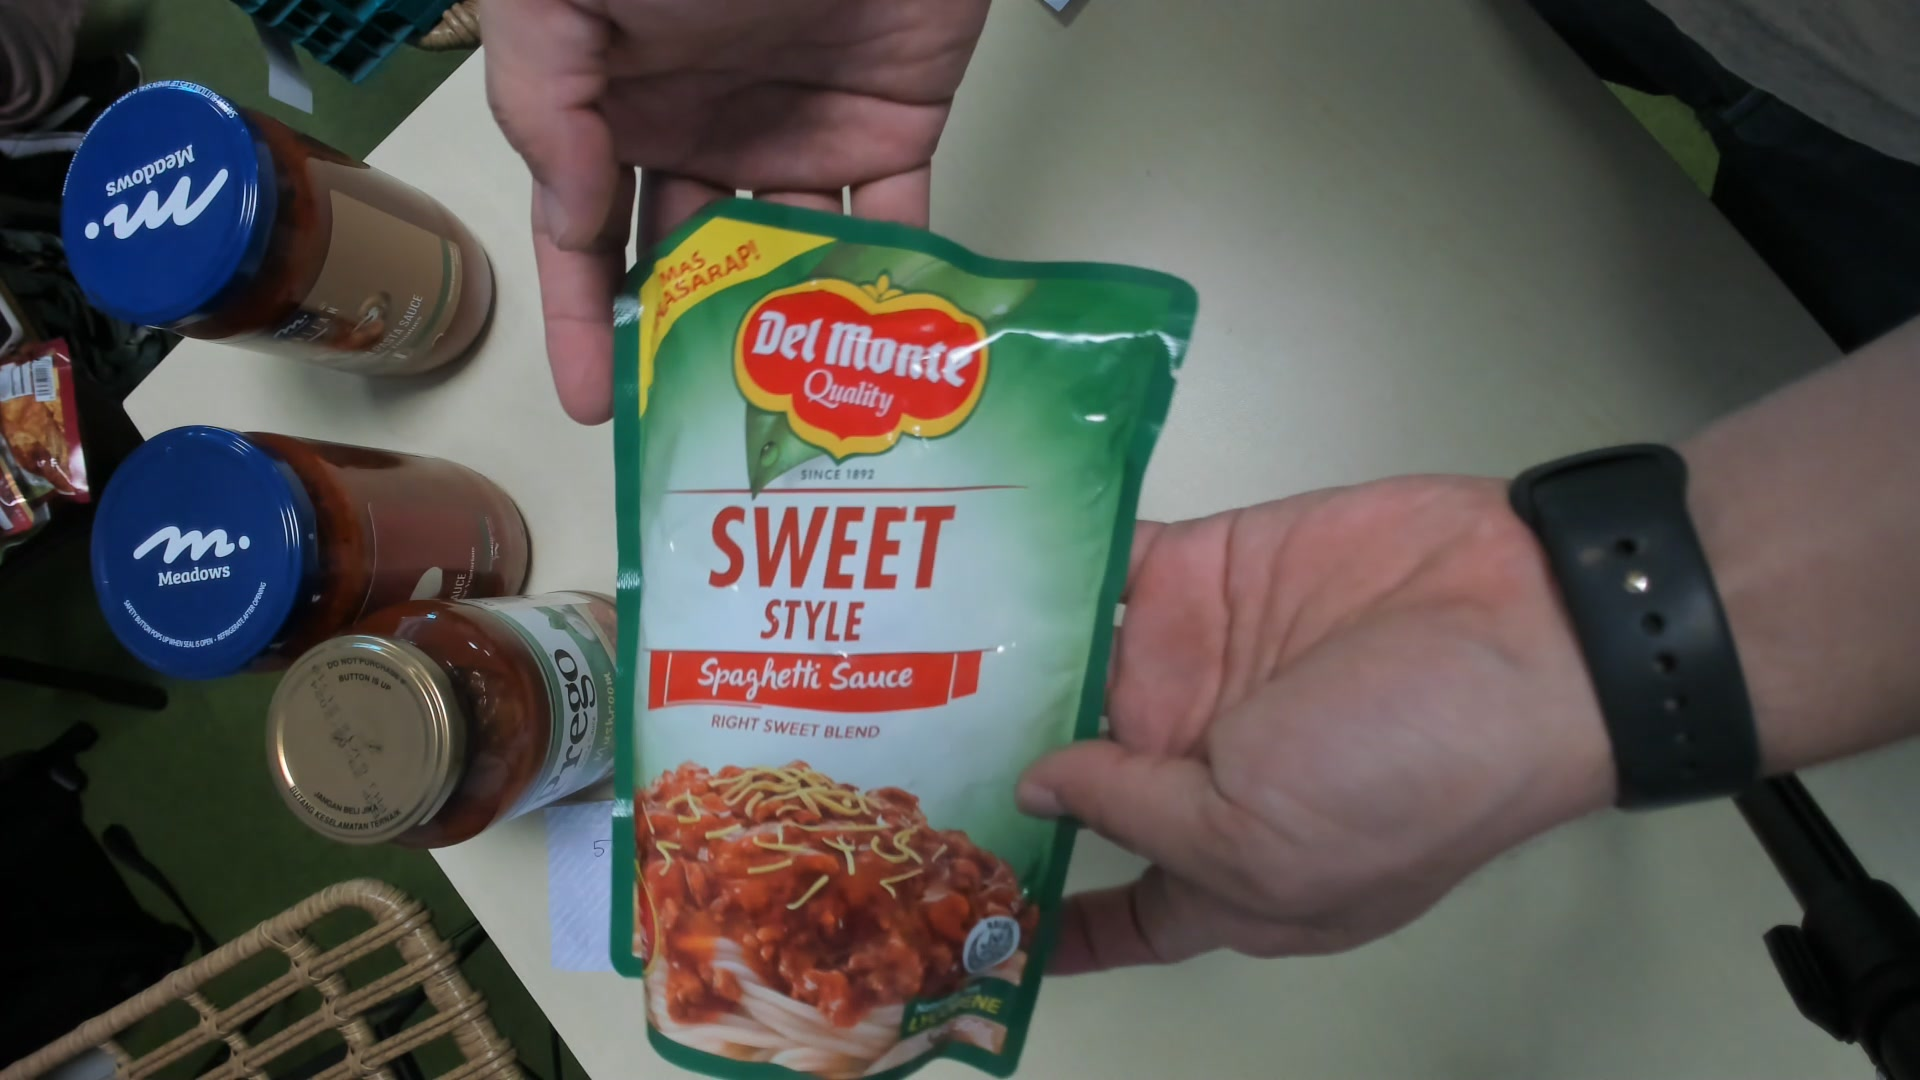PastaSauce_500-599g_Halal_NonHealthy: (600, 203, 1182, 1080)
